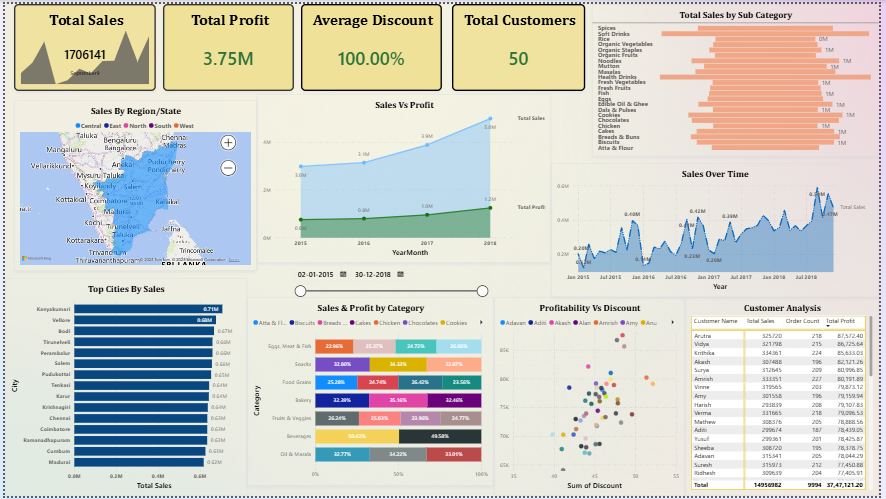

This screenshot's page, from the dashboard's own definition file:
{"tool":"powerbi","page":{"name":"Page 1","canvas":[1929,1086],"ordinal":0},"visuals":[{"type":"lineChart","title":"Sales Vs Profit","fields":{"Y":["supermart.Total Sales","supermart.Total Profit"],"Category":["supermart.YearMonth"]},"box":[556.2,198.7,649,373],"z":0},{"type":"slicer","fields":{"Values":["supermart.Order Date"]},"box":[629.1,571.7,441.5,88.3],"z":1000},{"type":"hundredPercentStackedBarChart","title":"Sales & Profit by Category","fields":{"Category":["supermart.Category"],"Series":["supermart.Sub Category"],"Y":["supermart.Total Sales"]},"box":[534.2,646.7,545.2,417.2],"z":2000},{"type":"clusteredBarChart","title":"Top Cities By Sales","fields":{"Y":["supermart.Total Sales"],"Category":["supermart.City"]},"box":[0,604.8,534.2,481.2],"z":3000},{"type":"kpi","title":"Total Sales","fields":{"Indicator":["Sum(supermart.Sales)"],"TrendLine":["DateTable.MonthName"]},"box":[19.9,0,313.4,192],"z":4000},{"type":"card","title":"Total Profit","fields":{"Values":["supermart.Total Profit"]},"box":[348.8,0,289.2,192],"z":5000},{"type":"scatterChart","title":"Profitability Vs Discount","fields":{"X":["Sum(supermart.Discount)"],"Y":["Sum(supermart.Profit)"],"Series":["supermart.Customer Name"]},"box":[1079.4,646.7,421.6,439.3],"z":6000},{"type":"card","title":"Total Customers","fields":{"Values":["supermart.Total Customers"]},"box":[986.7,0,293.6,192],"z":7000},{"type":"pivotTable","title":"Customer Analysis ","fields":{"Rows":["supermart.Customer Name"],"Values":["supermart.Total Sales","supermart.Order Count","supermart.Total Profit"]},"box":[1501,646.7,428.2,439.3],"z":8000},{"type":"funnel","fields":{"Y":["supermart.Total Sales"],"Category":["supermart.Sub Category"]},"box":[1295.7,0,633.5,335.5],"z":9000},{"type":"lineChart","title":" Sales Over Time","fields":{"Y":["supermart.Total Sales"],"Category":["DateTable.Date.Variation.Date Hierarchy.Year","DateTable.Date.Variation.Date Hierarchy.Month"]},"box":[1205.2,351,724,295.8],"z":10000},{"type":"card","title":"Average Discount","fields":{"Values":["supermart.Average Discount"]},"box":[653.4,0,311.2,192],"z":11000},{"type":"filledMap","title":"Sales By Region/State","fields":{"Category":["supermart.State"],"Series":["supermart.Region"]},"box":[19.9,211.9,536.4,377.5],"z":12000}]}

Visuals, with their boxes in screenshot pixels (x1, y1, x2, y2), scaled from the page's 1929x1086 canvas onto the 886x499 screenshot:
"Sales Vs Profit" lineChart: l=255, t=91, r=554, b=263
slicer - supermart.Order Date: l=289, t=263, r=492, b=303
"Sales & Profit by Category" hundredPercentStackedBarChart: l=245, t=297, r=496, b=489
"Top Cities By Sales" clusteredBarChart: l=0, t=278, r=245, b=498
"Total Sales" kpi: l=9, t=0, r=153, b=88
"Total Profit" card: l=160, t=0, r=293, b=88
"Profitability Vs Discount" scatterChart: l=496, t=297, r=689, b=498
"Total Customers" card: l=453, t=0, r=588, b=88
"Customer Analysis " pivotTable: l=689, t=297, r=885, b=498
funnel - supermart.Total Sales x supermart.Sub Category: l=595, t=0, r=885, b=154
" Sales Over Time" lineChart: l=554, t=161, r=885, b=297
"Average Discount" card: l=300, t=0, r=443, b=88
"Sales By Region/State" filledMap: l=9, t=97, r=256, b=271
